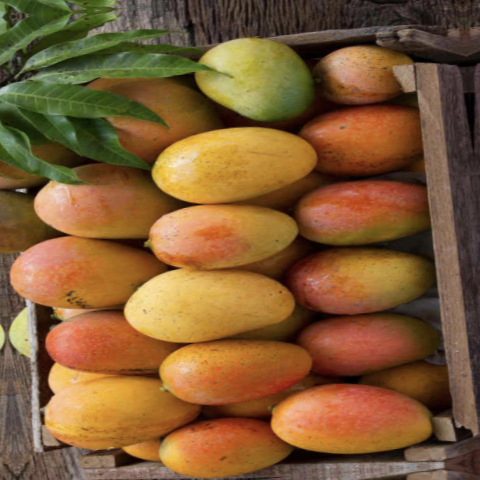mango: (111, 254, 313, 356), (40, 360, 226, 467), (136, 117, 326, 213), (252, 371, 436, 466), (270, 173, 461, 257), (10, 219, 171, 318), (151, 329, 317, 424), (190, 23, 329, 122), (133, 191, 294, 276), (279, 301, 434, 381), (154, 408, 309, 480)
